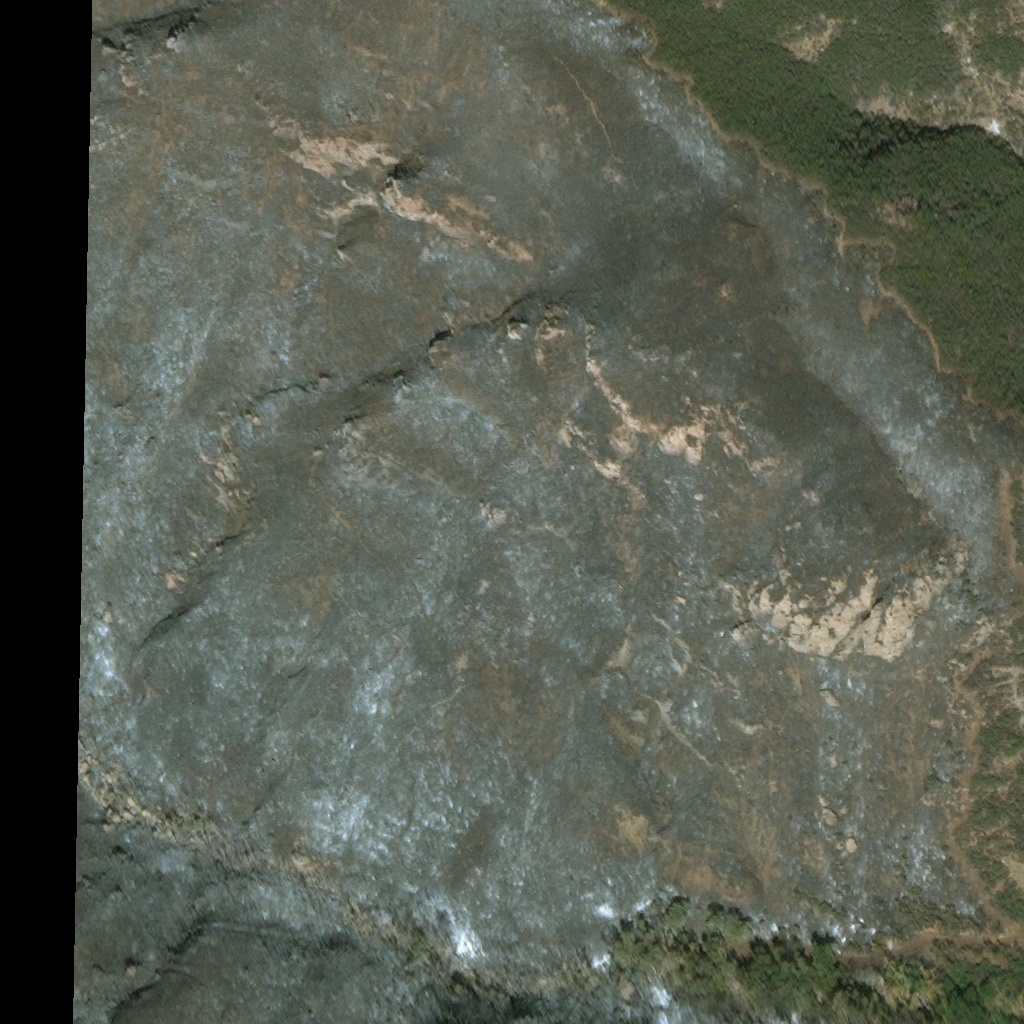4 un-classified: (615, 976, 635, 993)
